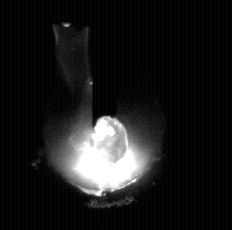arame: (92, 0, 118, 128)
poca: (43, 0, 166, 230)
